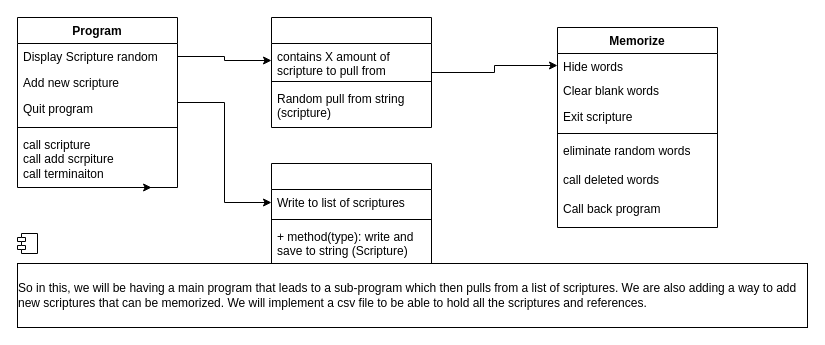
This 825x345 diagram has some shape labels left out. Each missing label, with the box of its shape:
Add to scripture: (270, 162, 432, 264)
Scriptures: (270, 16, 432, 128)
